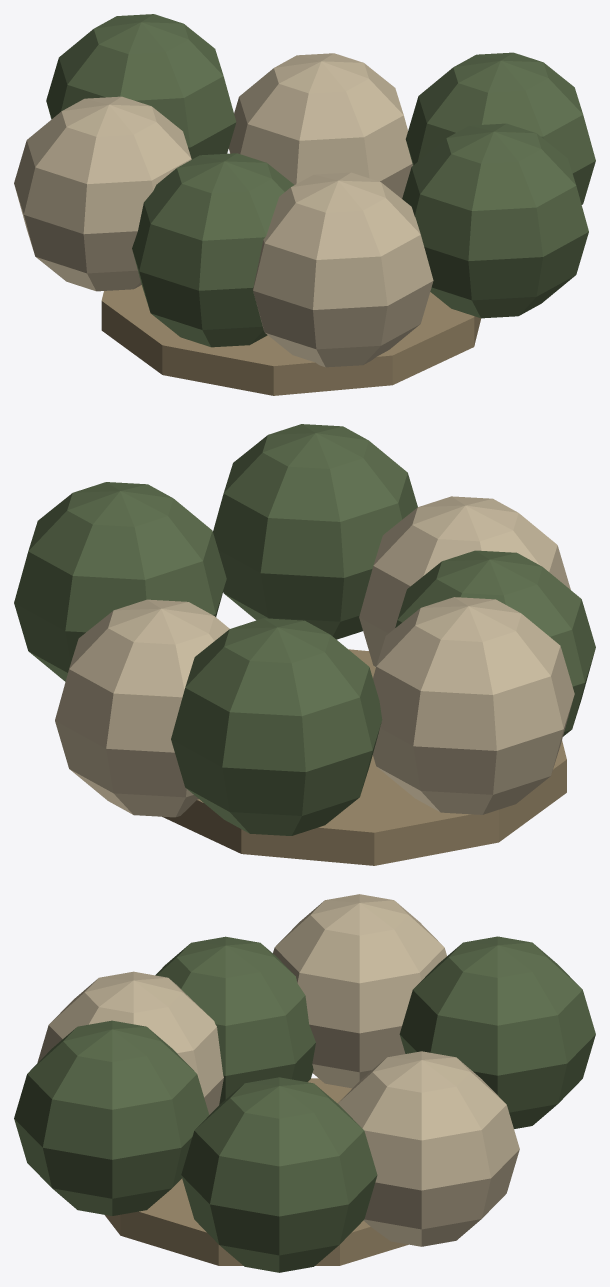
The model's file is P_FloatCluster.glb.
The picture shows the model from 3 angles, top to bottom: view 1: azimuth 30°, elevation 25°; view 2: azimuth 150°, elevation 25°; view 3: azimuth 270°, elevation 25°; orthographic projection. The views are drawn at different scales.
Visible parts, largest first — view 1: P_FloatCluster; view 2: P_FloatCluster; view 3: P_FloatCluster.
Part boxes in pixels (box(x1,y1,x2,y2)): P_FloatCluster: box(14, 14, 595, 395); P_FloatCluster: box(14, 424, 595, 865); P_FloatCluster: box(14, 894, 595, 1272).
Size of the model in its own units: 0.918 by 0.3771 by 0.8892.
